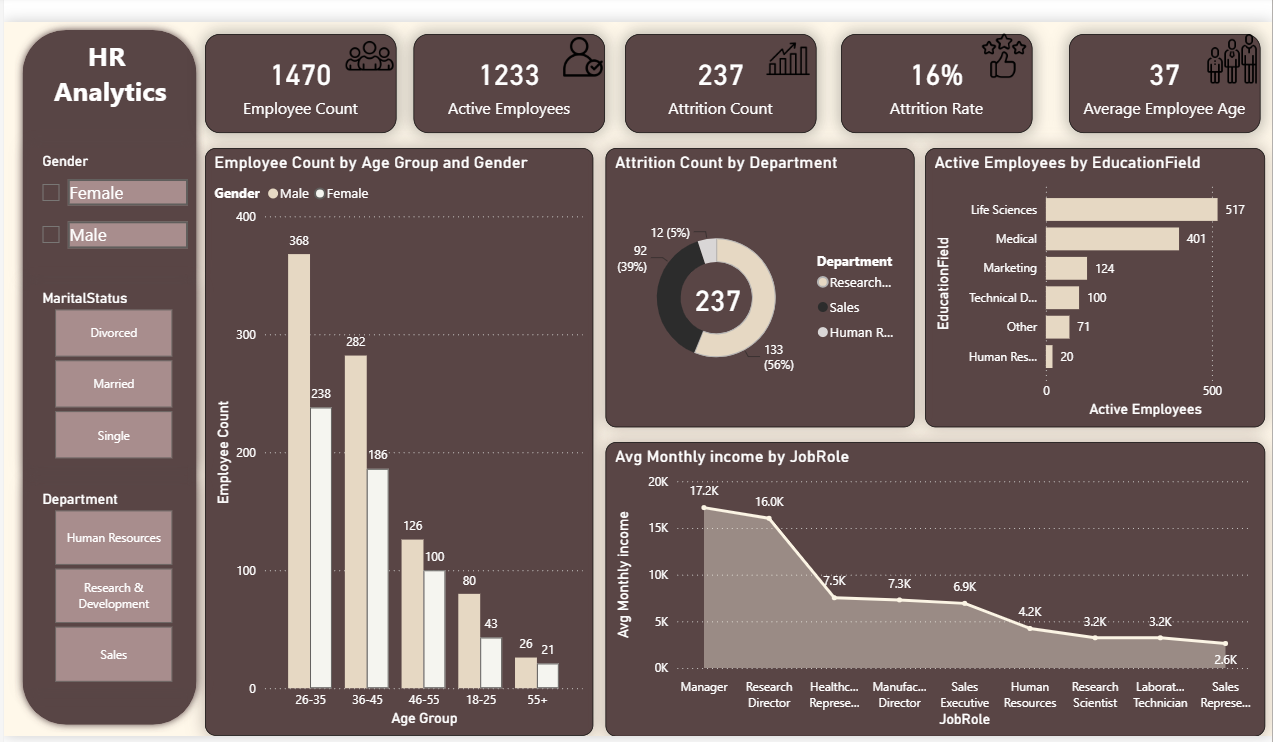

This screenshot's page, from the dashboard's own definition file:
{"tool":"powerbi","page":{"name":"HR Analytics","canvas":[1280,720],"ordinal":0},"visuals":[{"type":"shape","box":[11.2,0,191.7,717.4],"z":0},{"type":"textbox","box":[24,11.2,166.2,94.3],"z":1000},{"type":"card","fields":{"Values":["Dax Measures.Employee Count"]},"box":[203.3,11.7,193.3,100],"z":2000},{"type":"card","fields":{"Values":["Dax Measures.Active Employees"]},"box":[413.3,11.7,193.3,100],"z":3000},{"type":"card","fields":{"Values":["Dax Measures.Attrition Count"]},"box":[626.7,11.7,193.3,100],"z":4000},{"type":"card","fields":{"Values":["Dax Measures.Attrition Rate"]},"box":[845,11.7,193.3,100],"z":5000},{"type":"card","fields":{"Values":["Dax Measures.Average Employee Age"]},"box":[1075,11.7,193.3,100],"z":6000},{"type":"clusteredColumnChart","fields":{"Category":["HR_Data.Age Group"],"Y":["Dax Measures.Employee Count"],"Series":["HR_Data.Gender"]},"box":[203.3,126.7,391.7,593.3],"z":7000},{"type":"clusteredBarChart","fields":{"Category":["HR_Data.EducationField"],"Y":["Dax Measures.Active Employees"]},"box":[930,126.7,343.3,281.7],"z":8000},{"type":"donutChart","fields":{"Category":["HR_Data.Department"],"Y":["Dax Measures.Attrition Count"]},"box":[606.7,126.7,311.7,281.7],"z":9000},{"type":"card","fields":{"Values":["Dax Measures.Attrition Count"]},"box":[676.7,251.7,86.7,56.7],"z":10000},{"type":"areaChart","fields":{"Category":["HR_Data.JobRole"],"Y":["Dax Measures.Avg Monthly income"]},"box":[607.1,423.4,666.2,297.2],"z":11000},{"type":"slicer","fields":{"Values":["HR_Data.Gender"]},"box":[25.4,127,165.1,128.6],"z":12000},{"type":"slicer","fields":{"Values":["HR_Data.Department"]},"box":[25.4,468.3,168.3,204.8],"z":13000},{"type":"slicer","fields":{"Values":["HR_Data.MaritalStatus"]},"box":[25.4,265.1,168.3,182.5],"z":14000},{"type":"image","box":[340,8.3,56.7,50],"z":14001},{"type":"image","box":[561.7,15,45,40],"z":14002},{"type":"image","box":[763.3,11.7,56.7,50],"z":14003},{"type":"image","box":[981.7,8.3,56.7,50],"z":14004},{"type":"image","box":[1211.7,11.7,56.7,50],"z":14005}]}

Visuals, with their boxes in screenshot pixels (x1, y1, x2, y2):
shape: 18, 23, 206, 727
textbox: 30, 34, 193, 127
card - Dax Measures.Employee Count: 206, 35, 396, 133
card - Dax Measures.Active Employees: 412, 35, 602, 133
card - Dax Measures.Attrition Count: 621, 35, 811, 133
card - Dax Measures.Attrition Rate: 835, 35, 1025, 133
card - Dax Measures.Average Employee Age: 1061, 35, 1251, 133
clusteredColumnChart - HR_Data.Age Group x Dax Measures.Employee Count: 206, 147, 590, 729
clusteredBarChart - HR_Data.EducationField x Dax Measures.Active Employees: 919, 147, 1255, 424
donutChart - HR_Data.Department x Dax Measures.Attrition Count: 602, 147, 907, 424
card - Dax Measures.Attrition Count: 670, 270, 755, 326
areaChart - HR_Data.JobRole x Dax Measures.Avg Monthly income: 602, 438, 1255, 730
slicer - HR_Data.Gender: 32, 148, 193, 274
slicer - HR_Data.Department: 32, 483, 197, 683
slicer - HR_Data.MaritalStatus: 32, 283, 197, 462
image: 340, 31, 396, 80
image: 558, 38, 602, 77
image: 755, 35, 811, 84
image: 969, 31, 1025, 80
image: 1195, 35, 1251, 84
